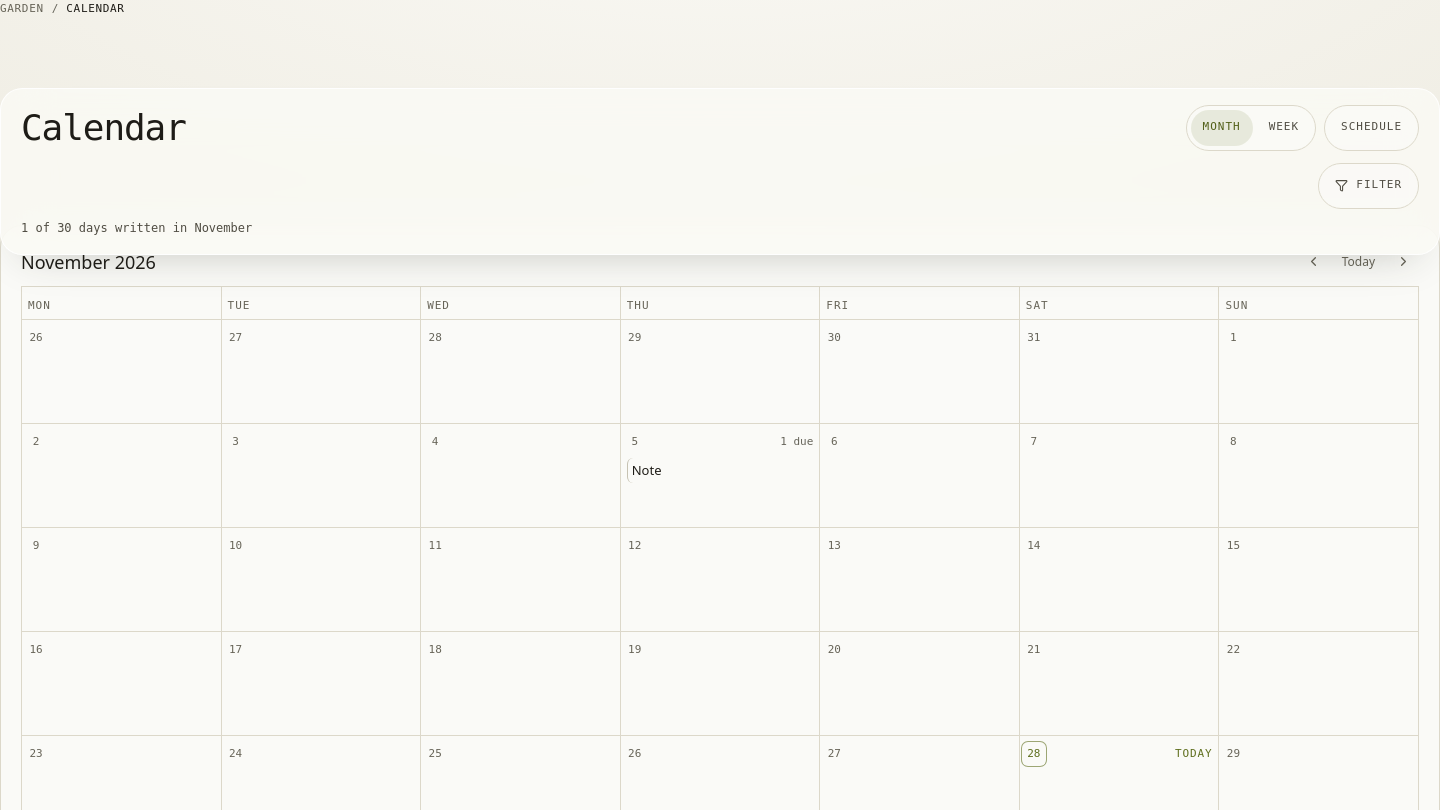
CalendarPage — month › lists the day's note, its outstanding rows and the write action
This screenshot has width=1440, height=810.
Click the button "5". click: coordinates (635, 442)
box: [623,430,647,454]
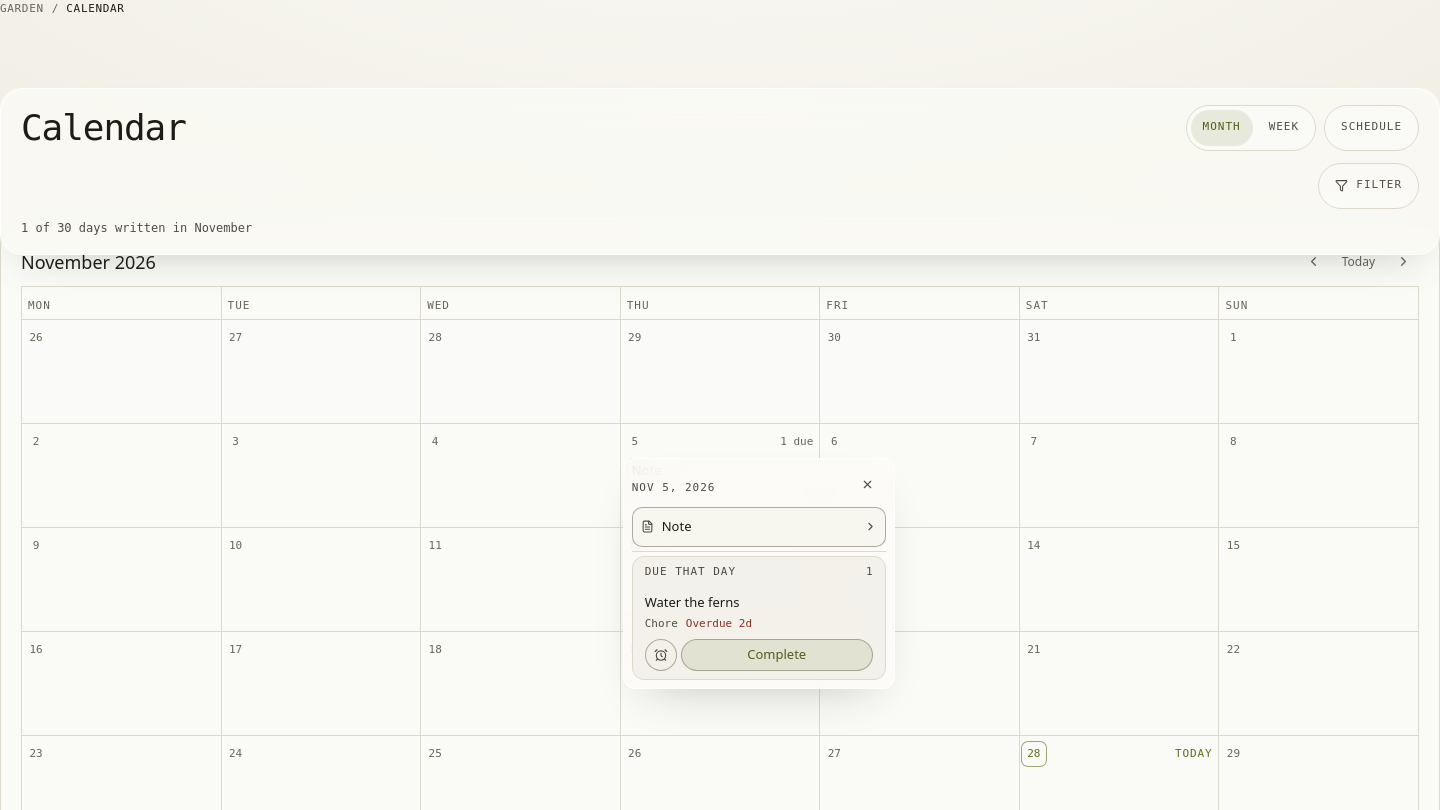
expect the text "Water the ferns" is shown: met, box [645,592,740,613]
expect the text "Overdue 2d" is shown: met, box [686,615,752,633]
expect the text "Due that day" is shown: met, box [645,564,736,580]
